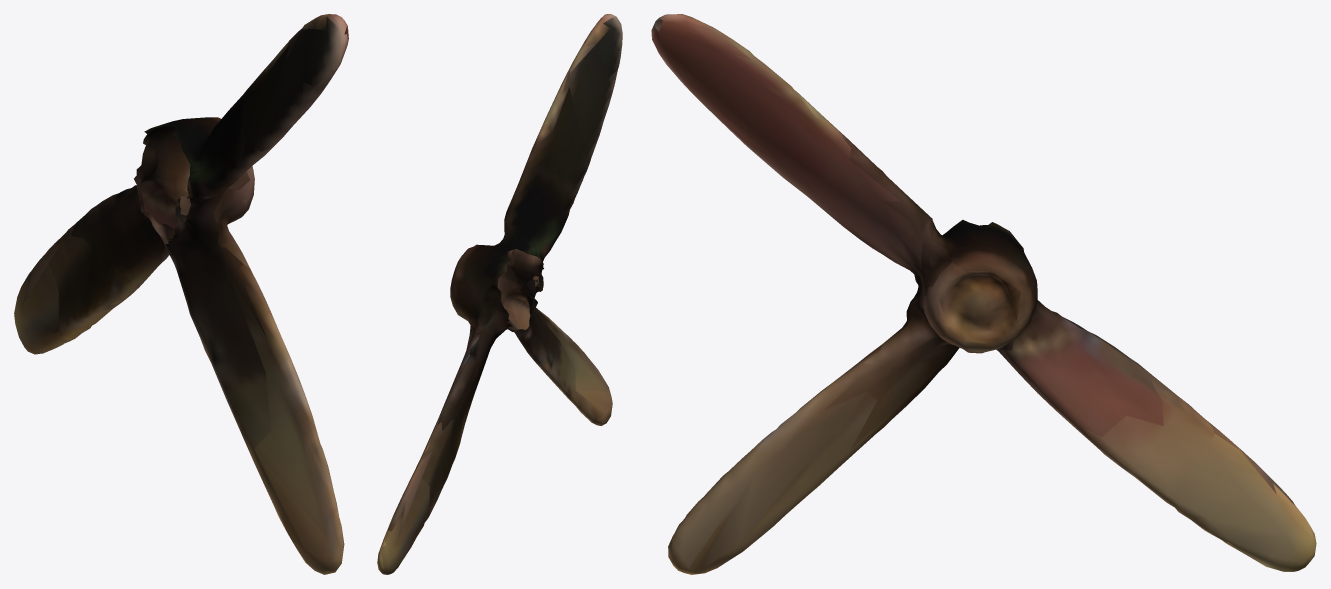
Rendered from helice.obj.
3 views of the same model, side by side, from view 1: azimuth 30°, elevation 25°; view 2: azimuth 150°, elevation 25°; view 3: azimuth 270°, elevation 25° (orthographic). The views are drawn at different scales.
Visible parts, largest first — view 1: nave.002_Material.001; view 2: nave.002_Material.001; view 3: nave.002_Material.001.
Boxes of the visible parts, x1,y1,x2,y2 form: nave.002_Material.001: (14,14,348,574); nave.002_Material.001: (377,14,622,574); nave.002_Material.001: (651,14,1316,574).
Bounding box in the file's own units: 0.042 × 0.276 × 0.2951.
